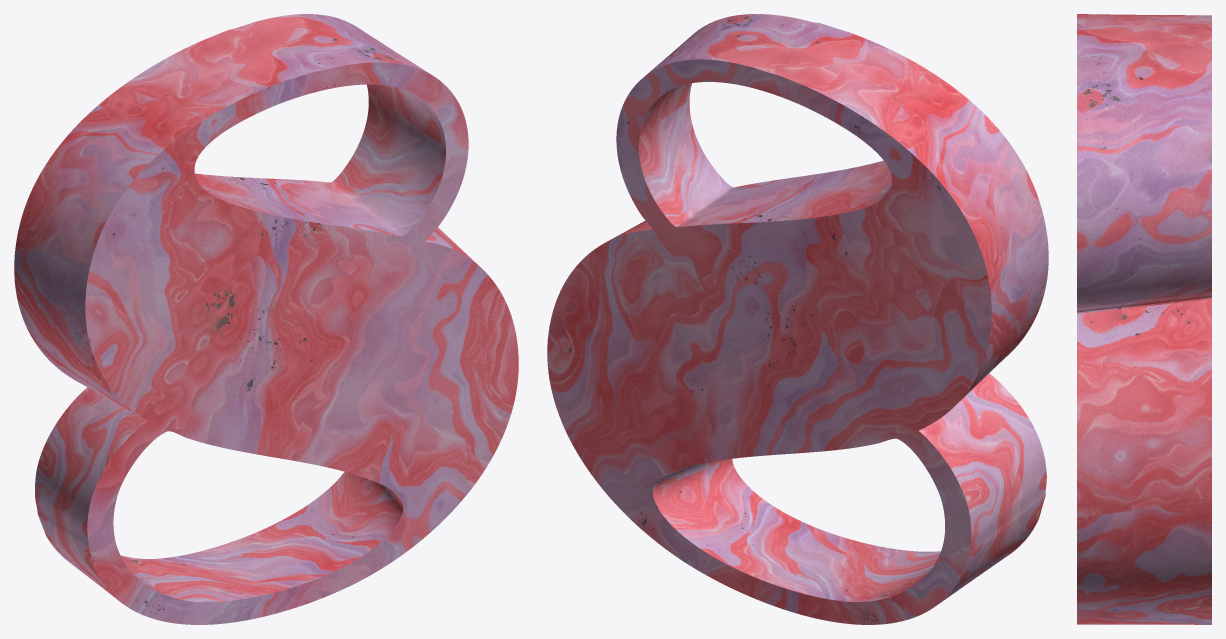
The model's file is Asset1-v1.glb.
The picture shows the model from 3 angles, left to right: view 1: azimuth 30°, elevation 25°; view 2: azimuth 150°, elevation 25°; view 3: azimuth 270°, elevation 25°; orthographic projection. The views are drawn at different scales.
Bounding box in the file's own units: 0.0354 × 0.0407 × 0.0088.
1 material, 1 textured.
